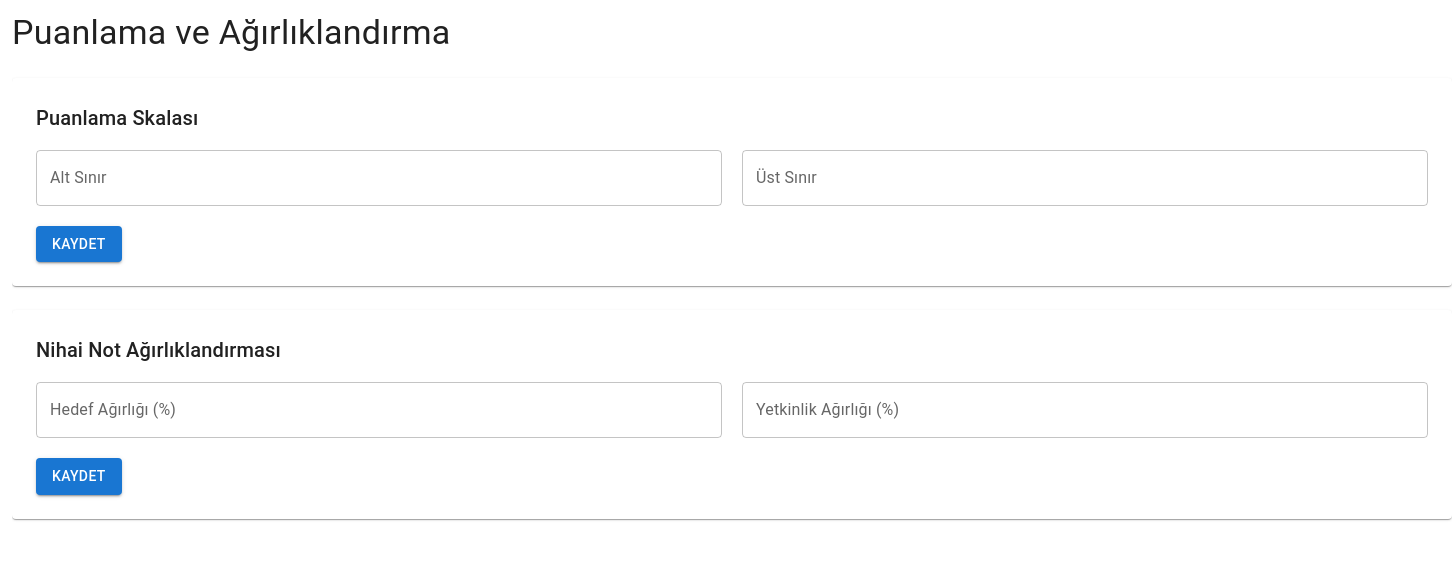
Scenario: RatingScaleSettingsPage › toplamı 100 olmayan ağırlıklarla submit edilince backend hatasını gösterir
Type "70" into the number field labelled "Hedef Ağırlığı (%)" at (379, 410), box [36,382,722,438]
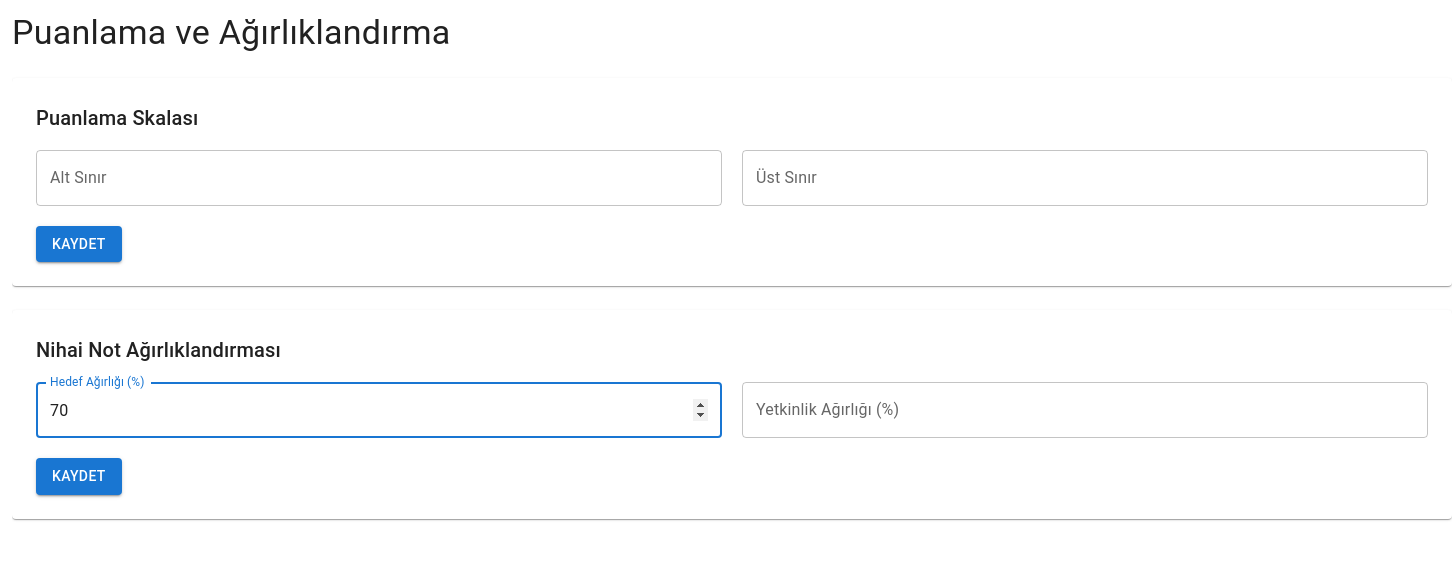
Type "50" into the number field labelled "Yetkinlik Ağırlığı (%)" at (1085, 410), box [742,382,1428,438]
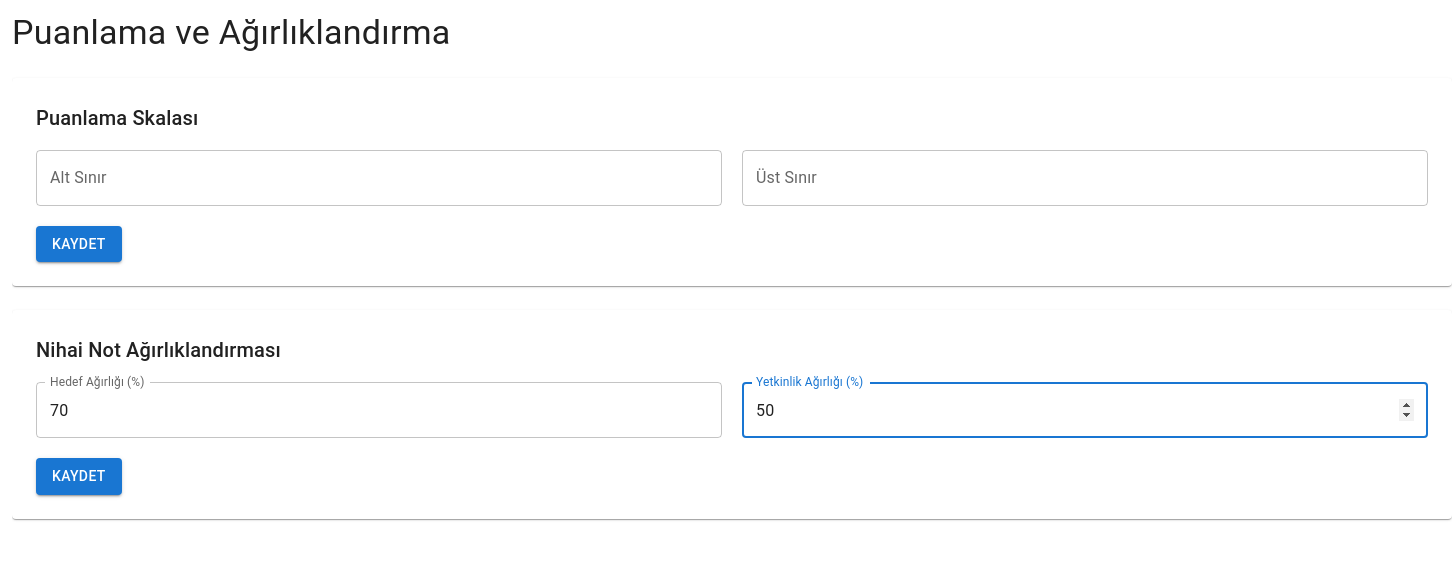
Click the button "Kaydet" below "Hedef Ağırlığı (%)" at (79, 477), box [36,458,122,495]
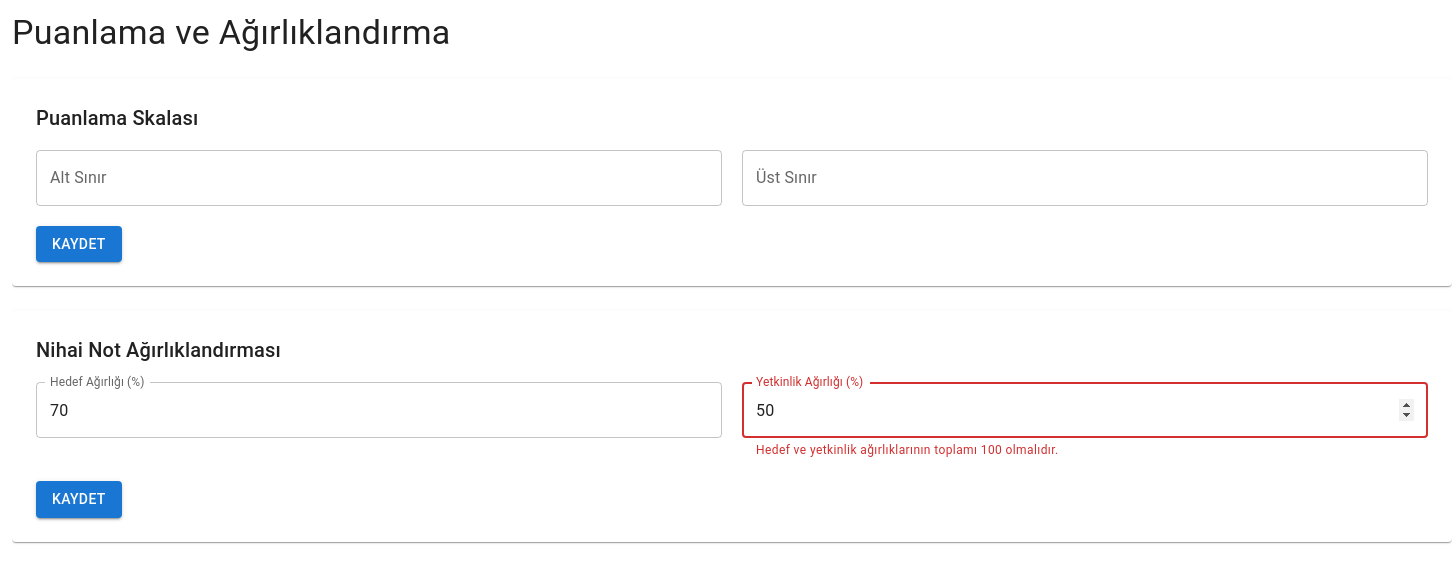
Result: the text "Hedef ve yetkinlik ağırlıklarının toplamı 100 olmalıdır." is shown at [756,444,1058,458]
